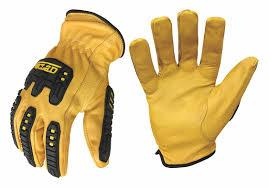gloves: (128, 9, 259, 168), (9, 8, 126, 178)
